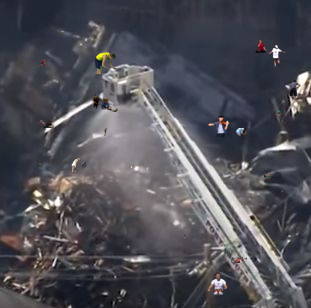Human: (207, 116, 233, 137), (94, 52, 118, 74), (251, 138, 274, 160), (207, 272, 228, 295), (268, 45, 286, 67), (285, 80, 301, 100), (101, 97, 118, 112), (255, 39, 267, 53), (236, 128, 250, 140), (38, 120, 54, 128), (71, 158, 80, 172), (93, 94, 100, 109), (275, 110, 290, 117), (38, 59, 49, 67), (235, 257, 247, 263), (81, 161, 87, 171), (264, 173, 271, 179), (117, 8, 124, 12), (104, 128, 107, 136), (184, 235, 189, 238), (179, 4, 181, 11), (61, 31, 64, 35), (39, 163, 41, 169), (131, 165, 135, 168), (281, 190, 283, 195), (293, 138, 298, 140), (116, 178, 118, 183), (184, 271, 186, 276), (148, 87, 150, 92), (282, 118, 285, 121)
